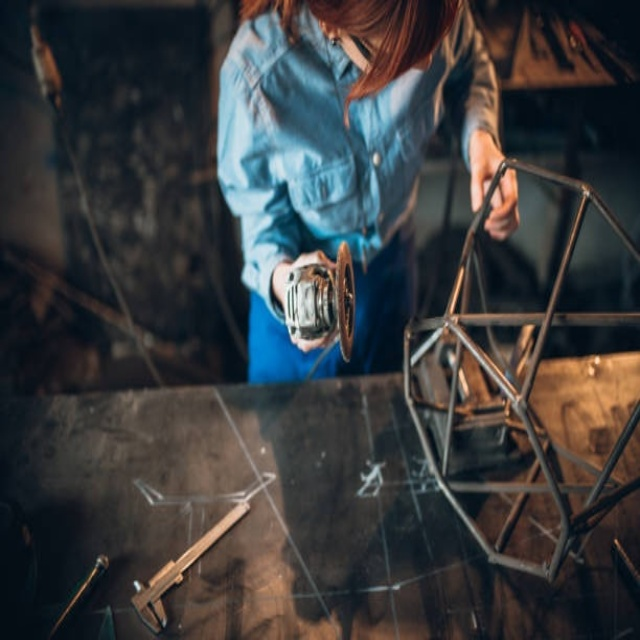Sin_guantes: (471, 133, 524, 240)
